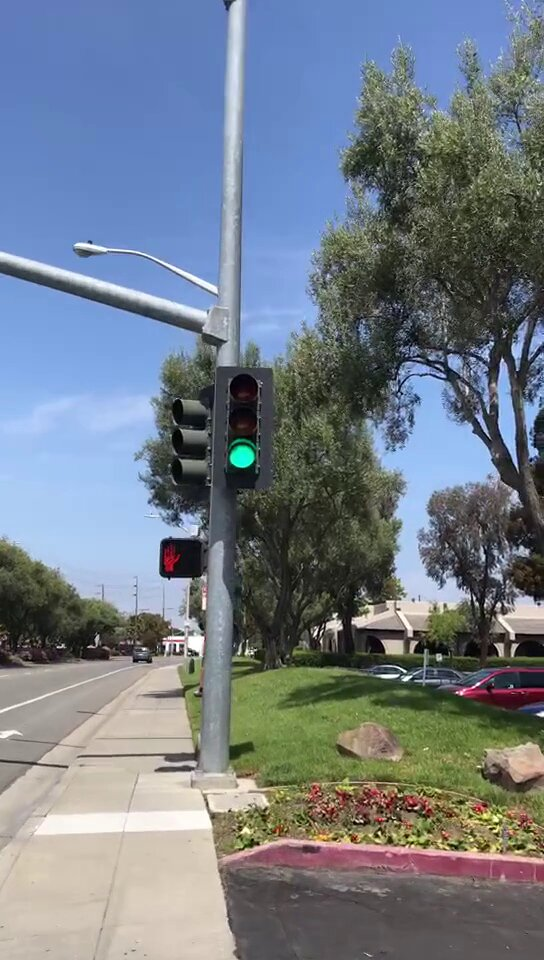green_light: (216, 368, 273, 491)
